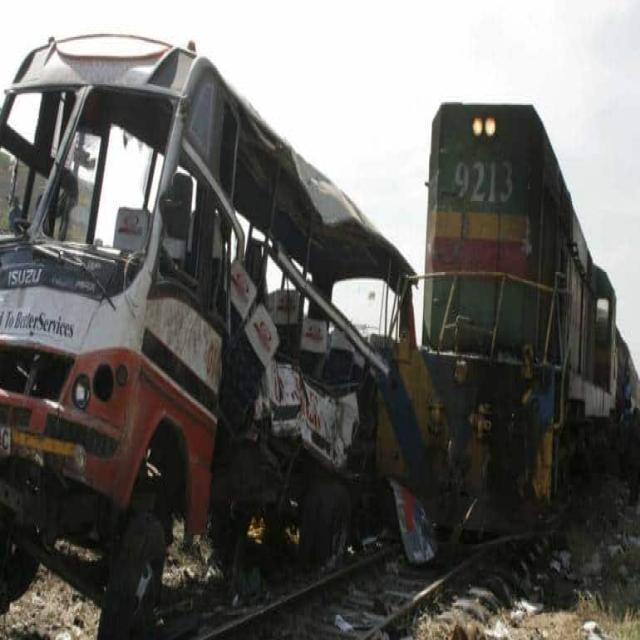accident: (0, 36, 430, 637)
